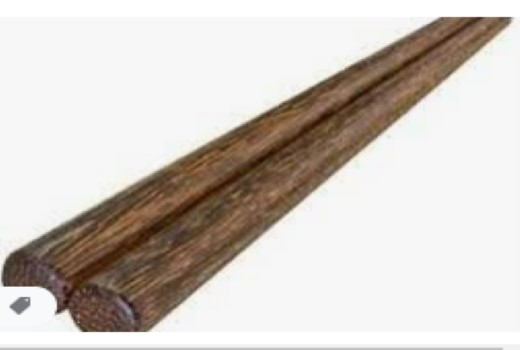baston_e: (146, 20, 480, 331), (68, 11, 442, 280)
baston_v: (69, 259, 172, 347), (2, 218, 72, 320)
